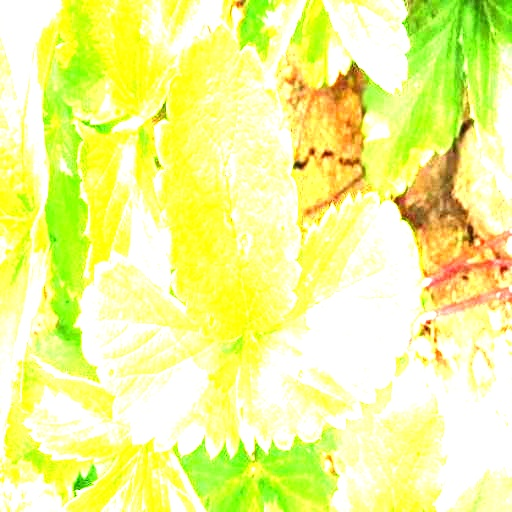Leaf Spot: (237, 190, 425, 459), (153, 21, 303, 343), (79, 249, 241, 459), (54, 0, 233, 135)
